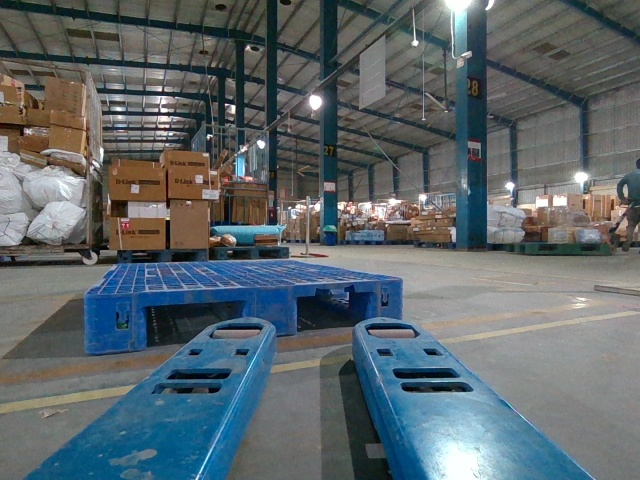block: (85, 293, 149, 356), (242, 285, 297, 339), (364, 278, 406, 322)
front: (83, 279, 406, 354)
hole pallet: (148, 301, 242, 346), (297, 293, 371, 336)
